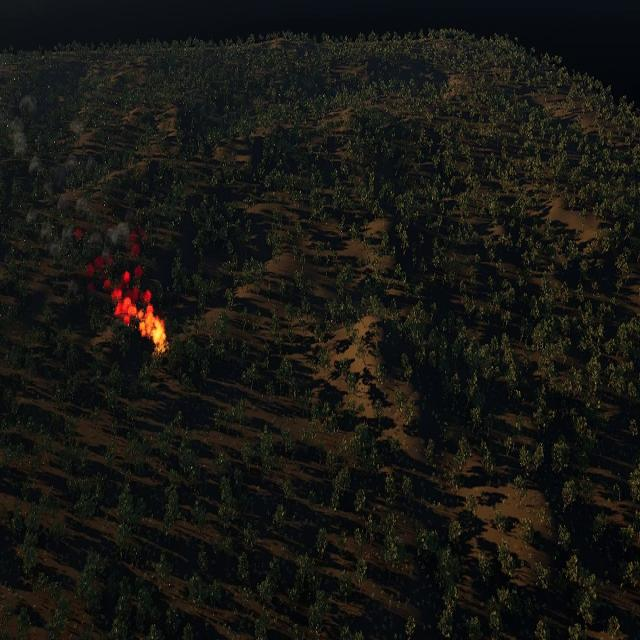fire: (140, 304, 165, 350)
smoke: (0, 94, 154, 325)
